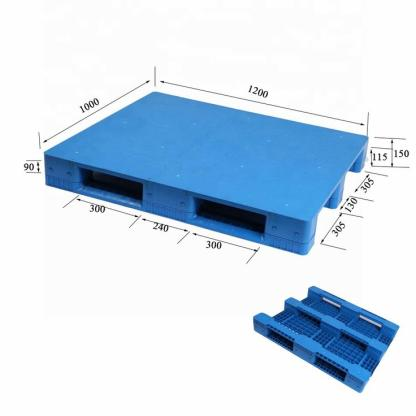BoxFace: (41, 138, 370, 259)
